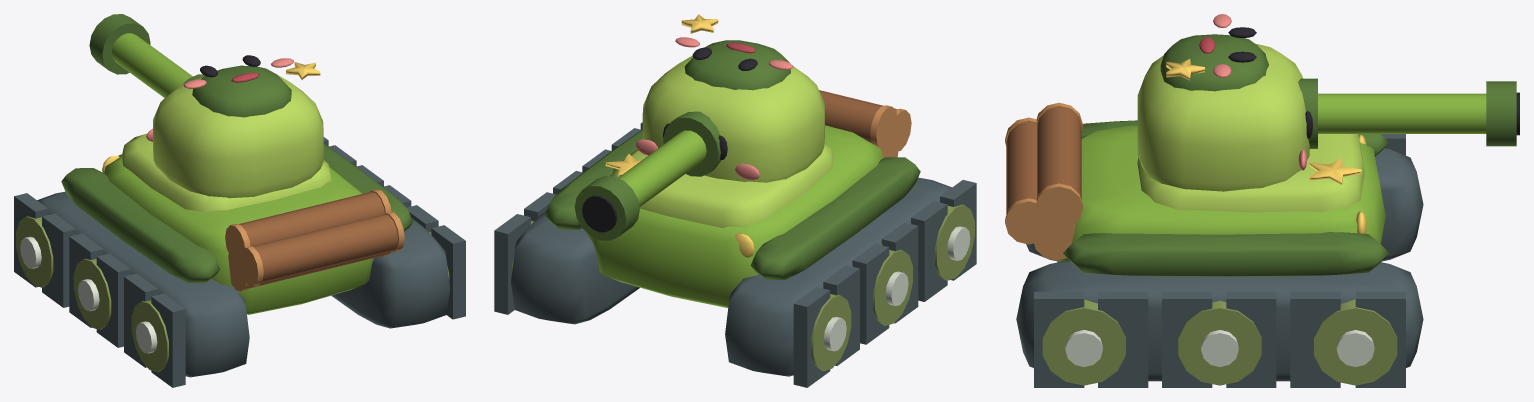
Rendered from tank-cute.glb.
3 views of the same model, side by side, from view 1: azimuth 30°, elevation 25°; view 2: azimuth 150°, elevation 25°; view 3: azimuth 270°, elevation 25° (orthographic). The views are drawn at different scales.
Parts seen in each view (by area): view 1: Frontline_Cute_Toy_Tank; view 2: Frontline_Cute_Toy_Tank; view 3: Frontline_Cute_Toy_Tank.
Part boxes in pixels (x1,y1,x2,y2): Frontline_Cute_Toy_Tank: (14, 14, 465, 387); Frontline_Cute_Toy_Tank: (494, 14, 976, 387); Frontline_Cute_Toy_Tank: (1005, 14, 1519, 387).
Size of the model in its own units: 3.32 by 2.38 by 4.1.
